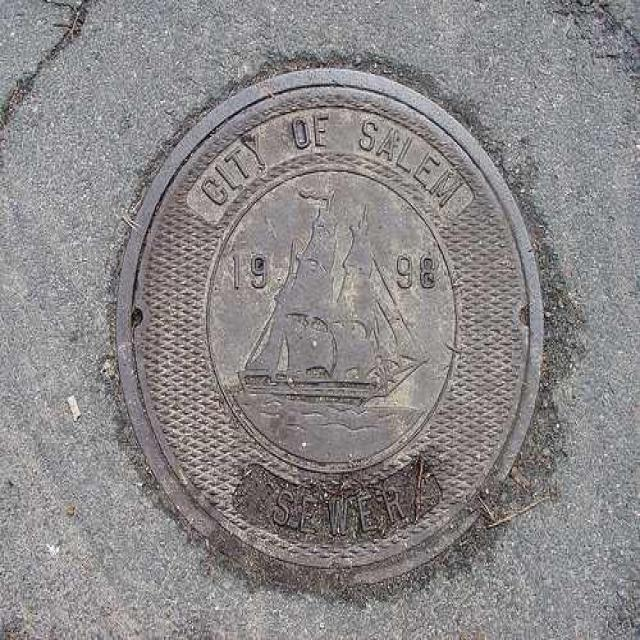manhole: (118, 69, 542, 590)
